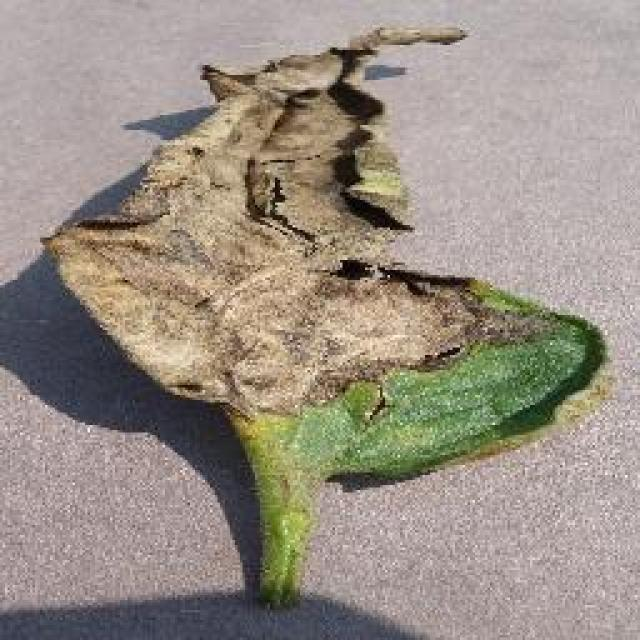Tomato late blight leaf: (36, 23, 618, 494)
